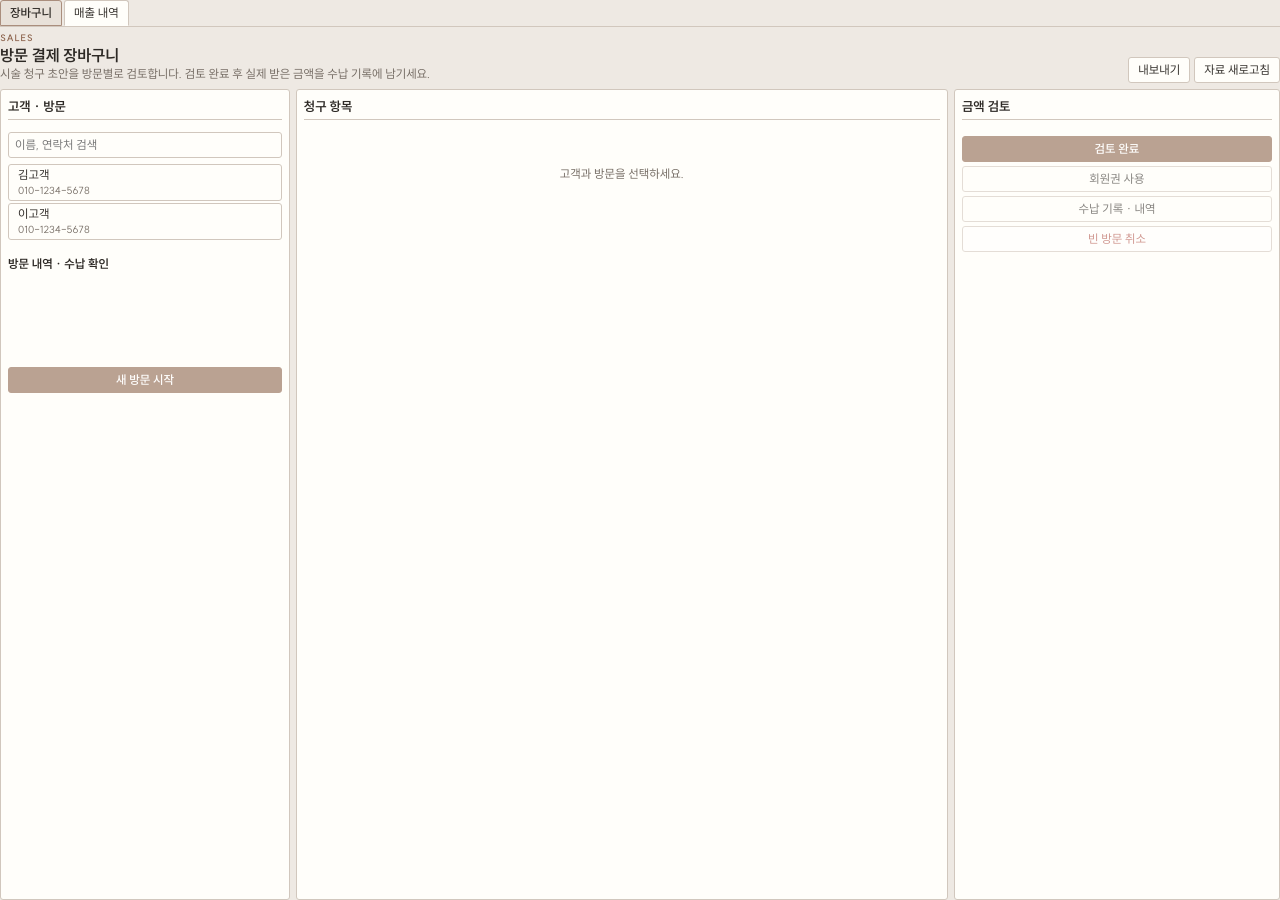
SalesPage 방문 장바구니 › 활성 시술 항목이 있는 방문에서 회원권 사용 창을 연다
Click the button "김고객 010-1234-5678" at (34, 175), box [8,164,282,201]
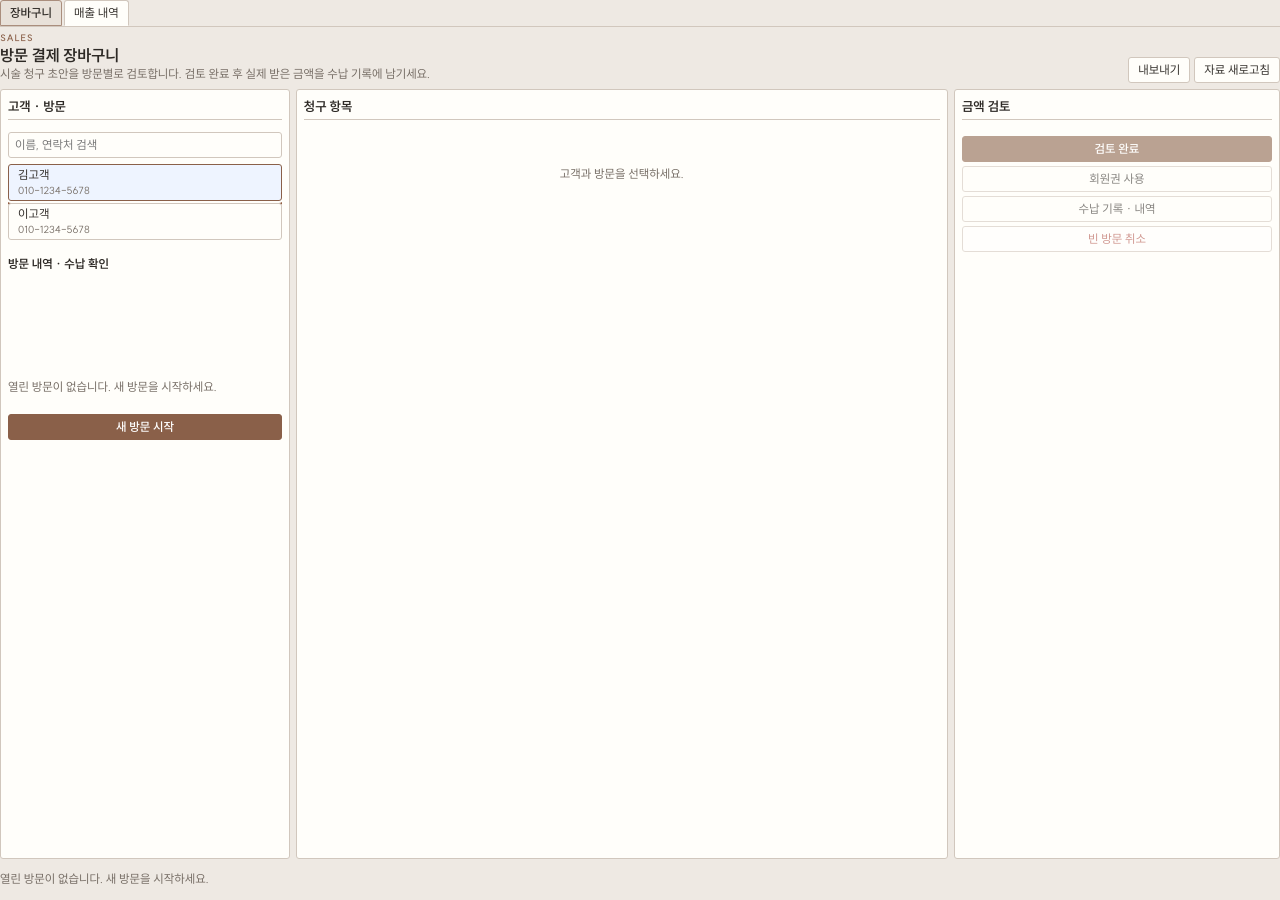
Click the button "새 방문 시작" at (145, 427), box [8,414,282,440]
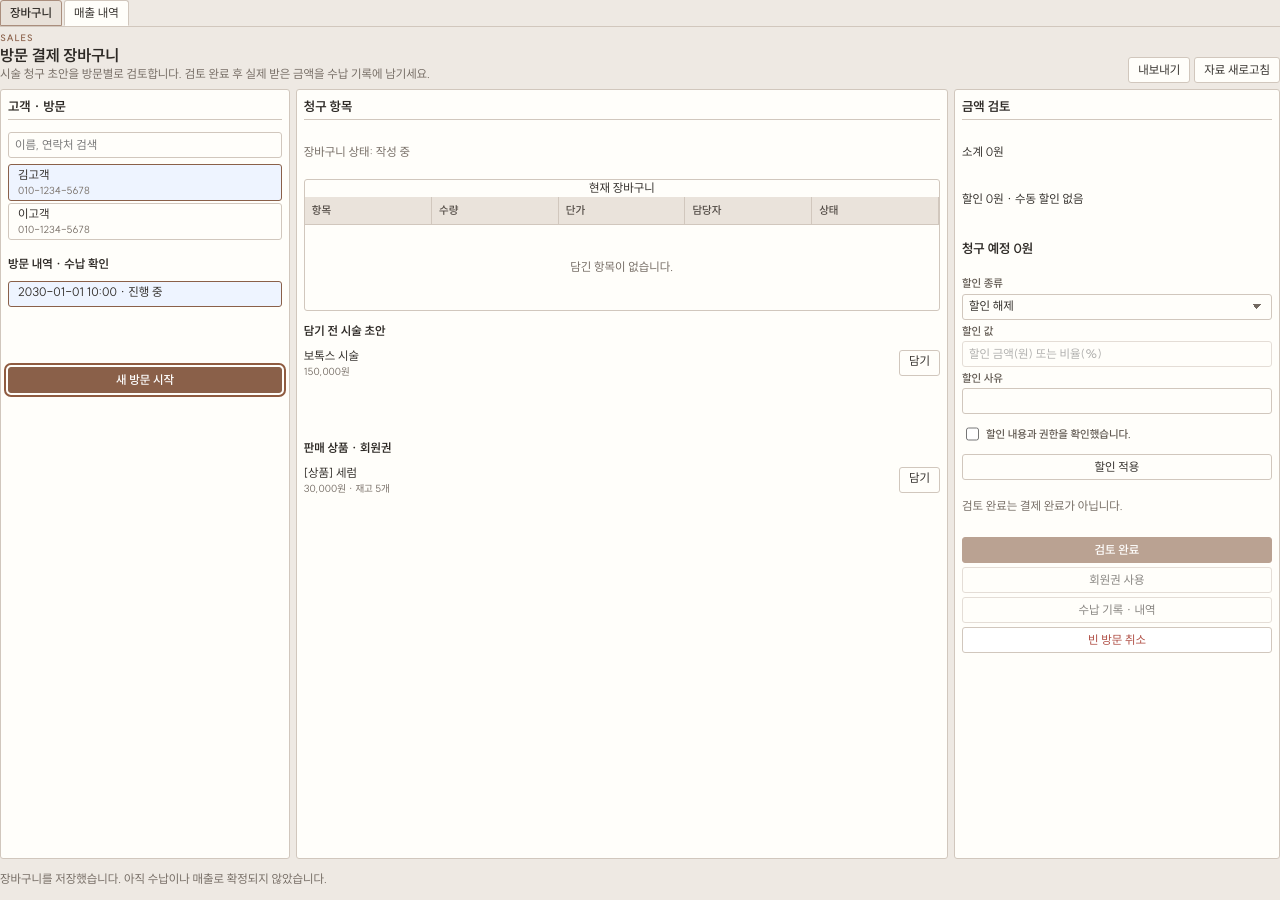
Result: the text "장바구니를 저장했습니다. 아직 수납이나 매출로 확정되지 않았습니다." is shown at [0,871,327,886]
Click the button with aria-label "시술 초안 담기 보톡스 시술" at (920, 364), box [899,350,940,376]
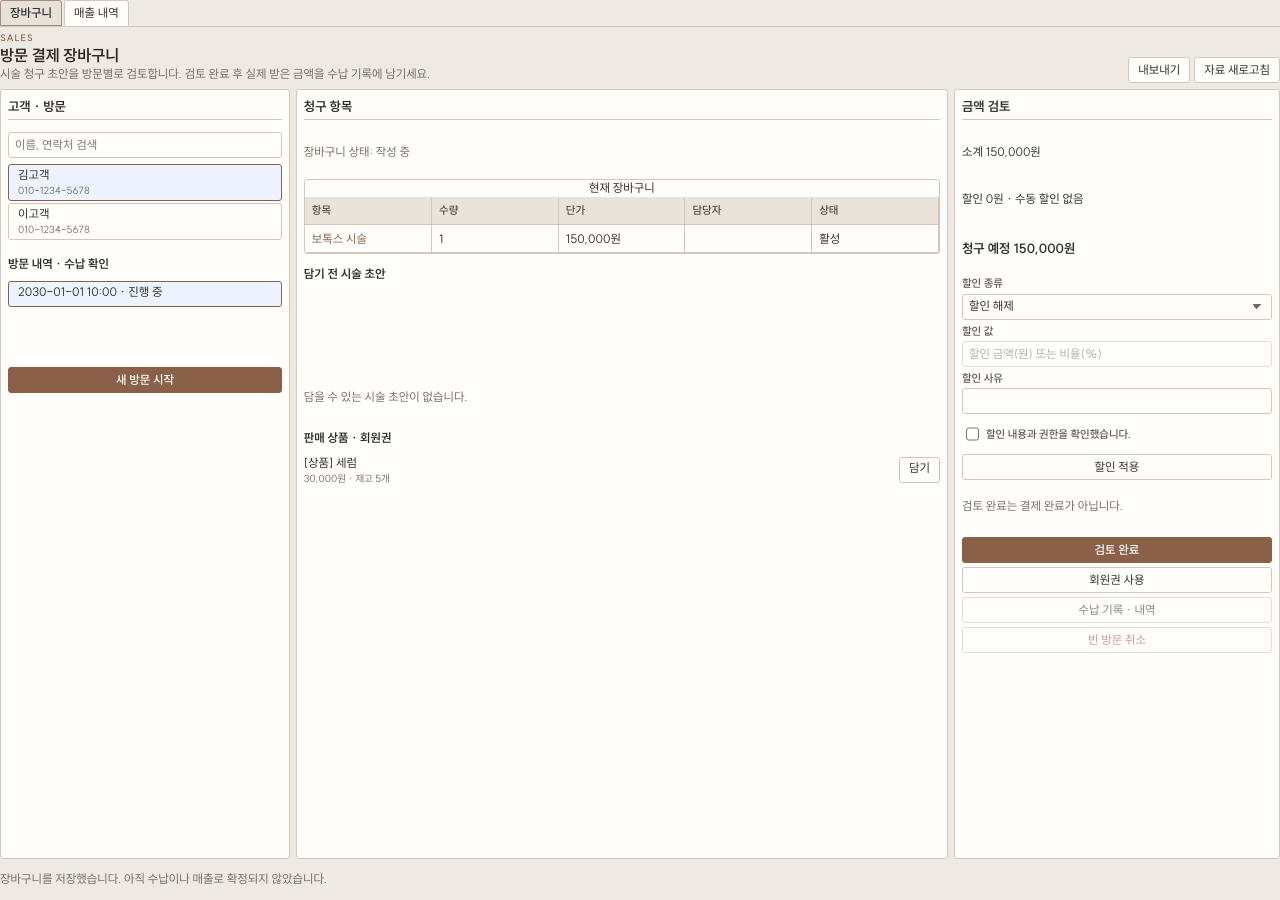
Click the button "회원권 사용" at (1117, 580), box [962,567,1272,593]
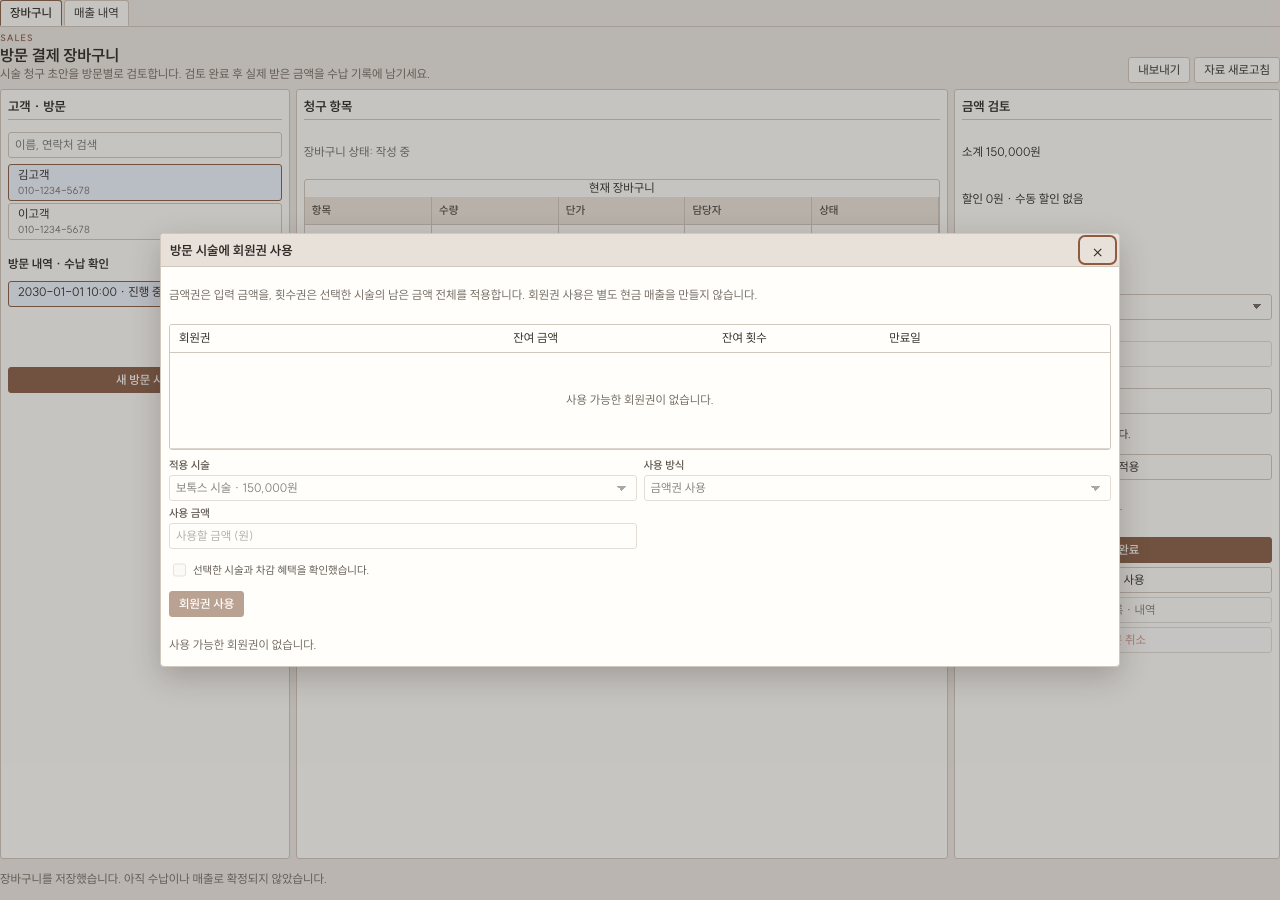
Result: the dialog "방문 시술에 회원권 사용" is shown at [160,233,1120,667]
Result: the text "사용 가능한 회원권이 없습니다." is shown 2 times at [170,353,1110,449]; [169,637,317,652]
